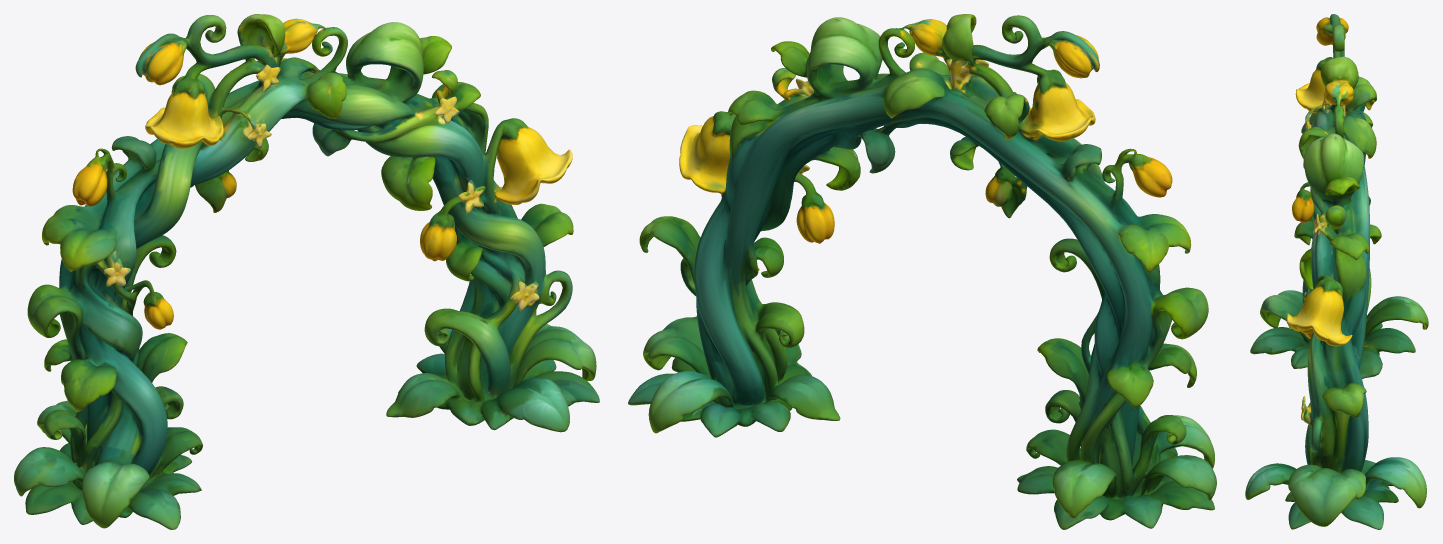
File: vine-arch.glb
3 views of the same model, side by side, from view 1: azimuth 30°, elevation 25°; view 2: azimuth 150°, elevation 25°; view 3: azimuth 270°, elevation 25° (orthographic). The views are drawn at different scales.
Parts seen in each view (by area): view 1: node_0; view 2: node_0; view 3: node_0.
Boxes of the visible parts, x1,y1,x2,y2 form: node_0: (14, 14, 599, 529); node_0: (628, 14, 1216, 529); node_0: (1245, 14, 1428, 529).
Size of the model in its own units: 9.1 by 6.98 by 3.2.
1 material, 1 textured.
